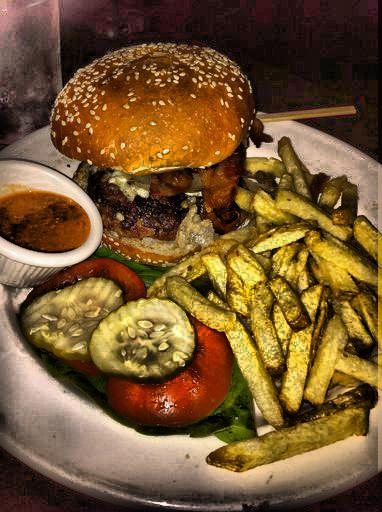burger: (46, 45, 293, 271)
